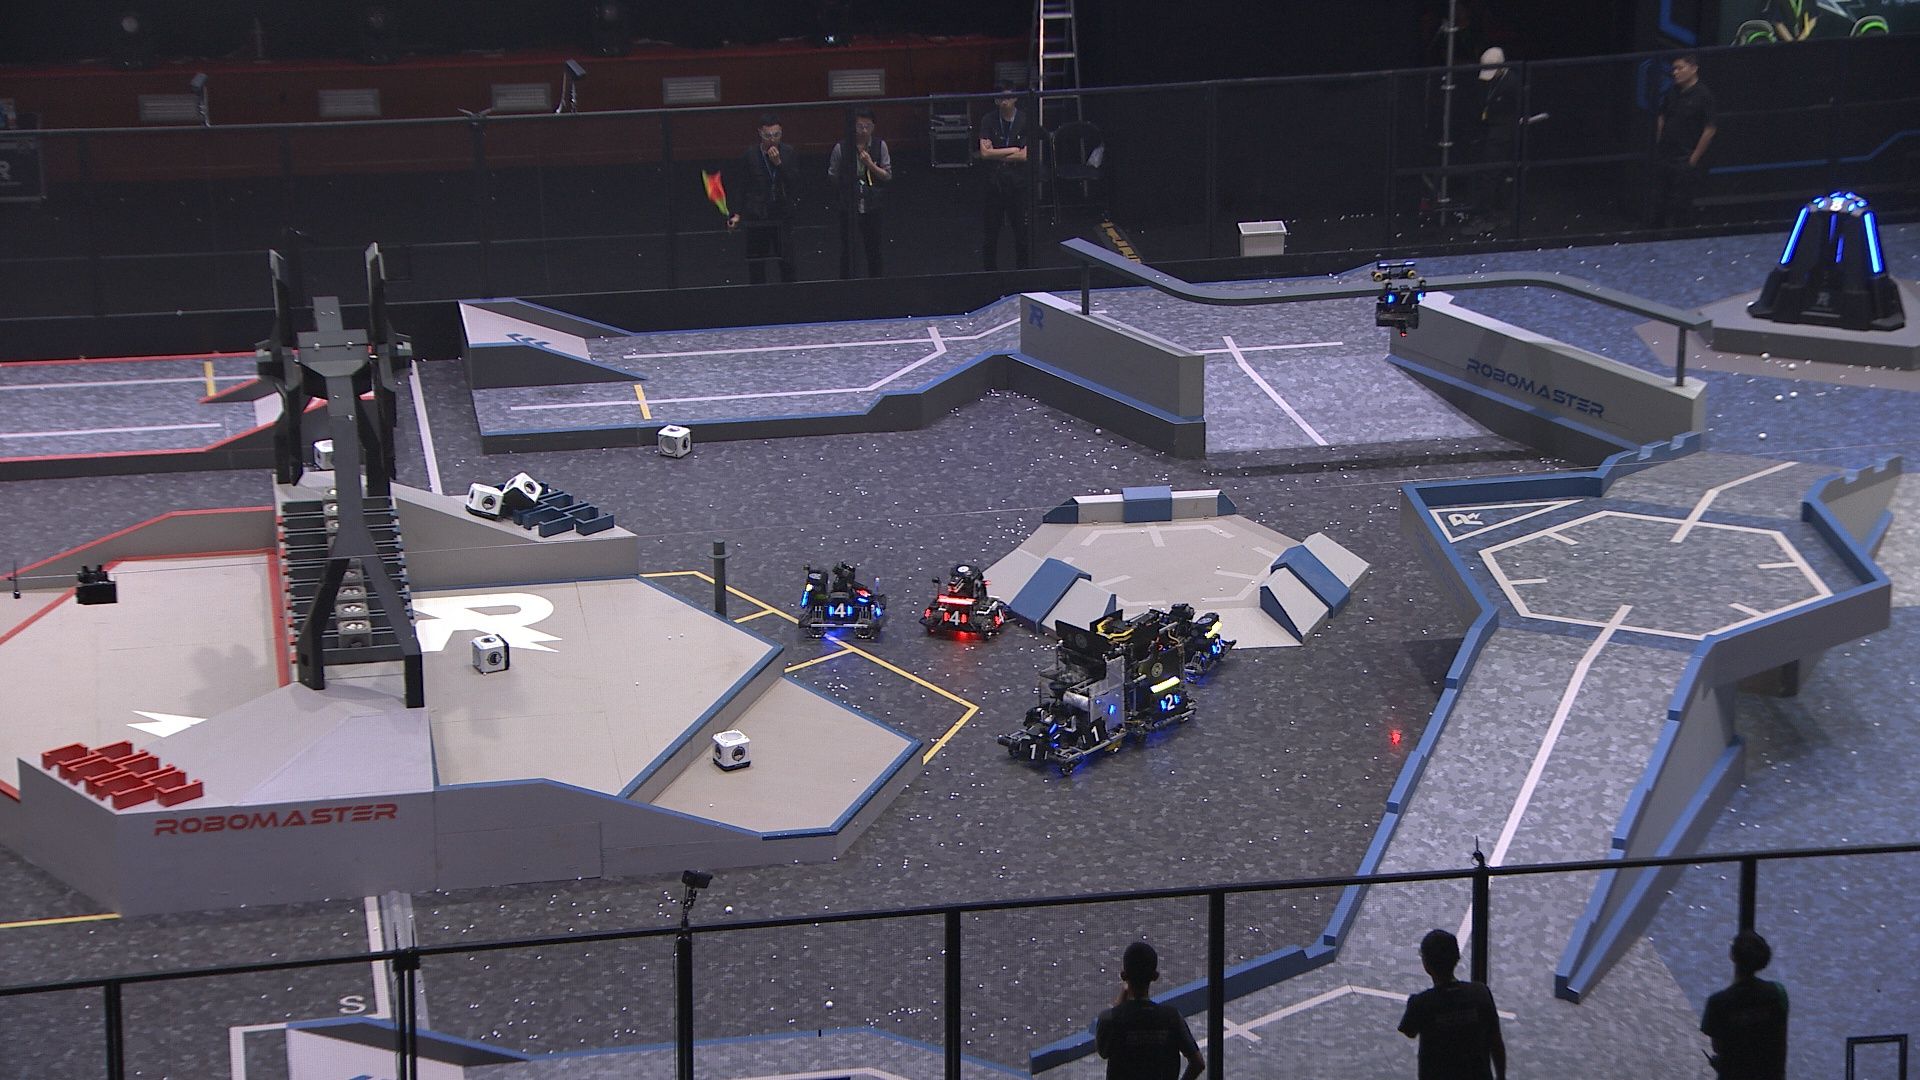armor: (1779, 204, 1809, 262), (1865, 214, 1883, 273), (1013, 741, 1050, 761), (1027, 723, 1062, 741), (1081, 721, 1106, 746), (1387, 289, 1423, 306), (1818, 196, 1855, 211), (942, 611, 969, 626), (825, 604, 849, 622), (1826, 214, 1840, 244), (1159, 694, 1179, 711), (993, 607, 1007, 629), (856, 584, 870, 604), (1211, 637, 1225, 654)
base: (1747, 189, 1909, 334)
car: (994, 621, 1130, 775), (1087, 612, 1201, 740), (916, 566, 1011, 644), (796, 560, 885, 642), (1147, 603, 1240, 671)
watcher: (1367, 257, 1429, 338)
